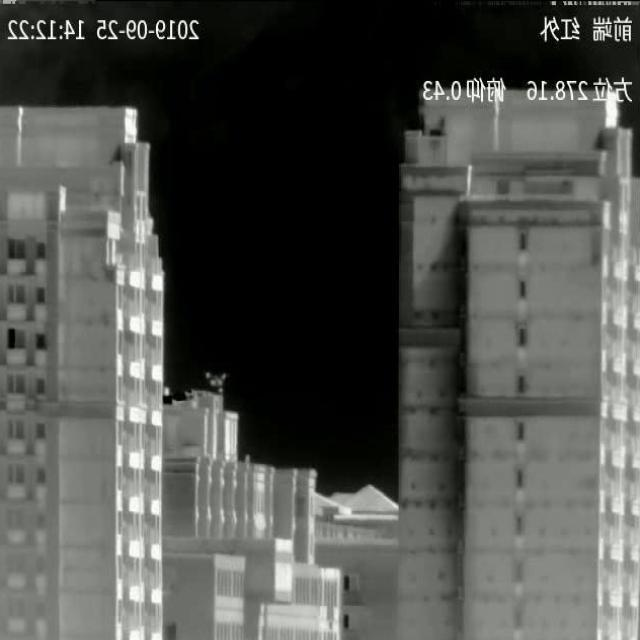drone: (206, 373, 227, 393)
